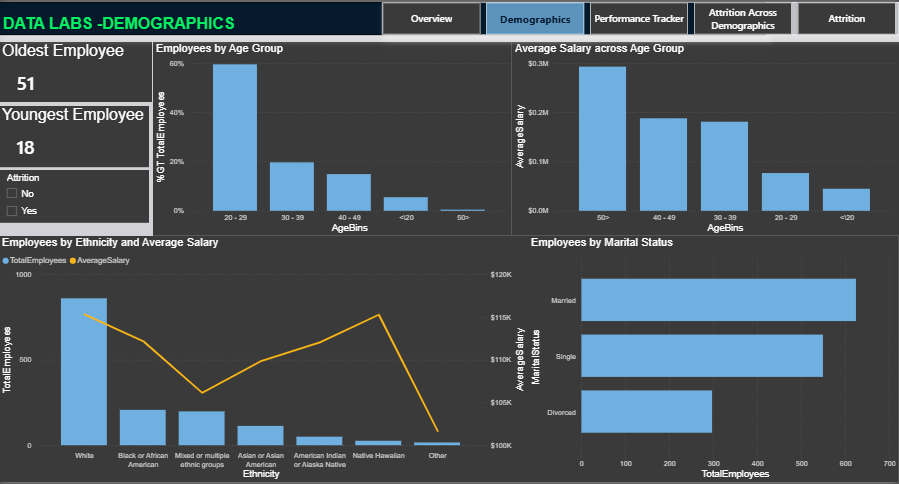

This screenshot's page, from the dashboard's own definition file:
{"tool":"powerbi","page":{"name":"Demographics","canvas":[1500,800],"ordinal":1},"visuals":[{"type":"cardVisual","title":"Youngest Employee","fields":{"Data":["_Measures.MinAge"]},"box":[0,173.3,250,101.7],"z":0},{"type":"cardVisual","title":"Oldest Employee","fields":{"Data":["_Measures.MaxAge"]},"box":[0,66.7,255,100],"z":1000},{"type":"clusteredColumnChart","title":"Employees by Age Group","fields":{"Category":["DimEmployee.AgeBins"],"Y":["_Measures.TotalEmployees"]},"box":[256.7,66.7,598.3,323.3],"z":2000},{"type":"clusteredColumnChart","title":"Average Salary across Age Group","fields":{"Category":["DimEmployee.AgeBins"],"Y":["_Measures.AverageSalary"]},"box":[855,66.7,645,323.3],"z":3000},{"type":"slicer","fields":{"Values":["DimEmployee.Attrition"]},"box":[0,280,250,88.3],"z":4000},{"type":"barChart","title":"Employees by Marital Status","fields":{"Category":["DimEmployee.MaritalStatus"],"Y":["_Measures.TotalEmployees"]},"box":[881.7,390,618.3,410],"z":5000},{"type":"lineStackedColumnComboChart","title":"Employees by Ethnicity and Average Salary","fields":{"Category":["DimEmployee.Ethnicity"],"Y2":["_Measures.AverageSalary"],"Y":["_Measures.TotalEmployees"]},"box":[0,390,881.7,410],"z":6000},{"type":"textbox","box":[0,0,1278.1,54.9],"z":7000},{"type":"pageNavigator","box":[638.3,0,861.7,55],"z":8000}]}

Visuals, with their boxes in screenshot pixels (x1, y1, x2, y2), scaled from the page's 1500x800 canvas onto the 899x484 screenshot:
"Youngest Employee" cardVisual: [0,105,150,166]
"Oldest Employee" cardVisual: [0,40,153,101]
"Employees by Age Group" clusteredColumnChart: [154,40,512,236]
"Average Salary across Age Group" clusteredColumnChart: [512,40,898,236]
slicer - DimEmployee.Attrition: [0,169,150,223]
"Employees by Marital Status" barChart: [528,236,898,483]
"Employees by Ethnicity and Average Salary" lineStackedColumnComboChart: [0,236,528,483]
textbox: [0,0,766,33]
pageNavigator: [383,0,898,33]
